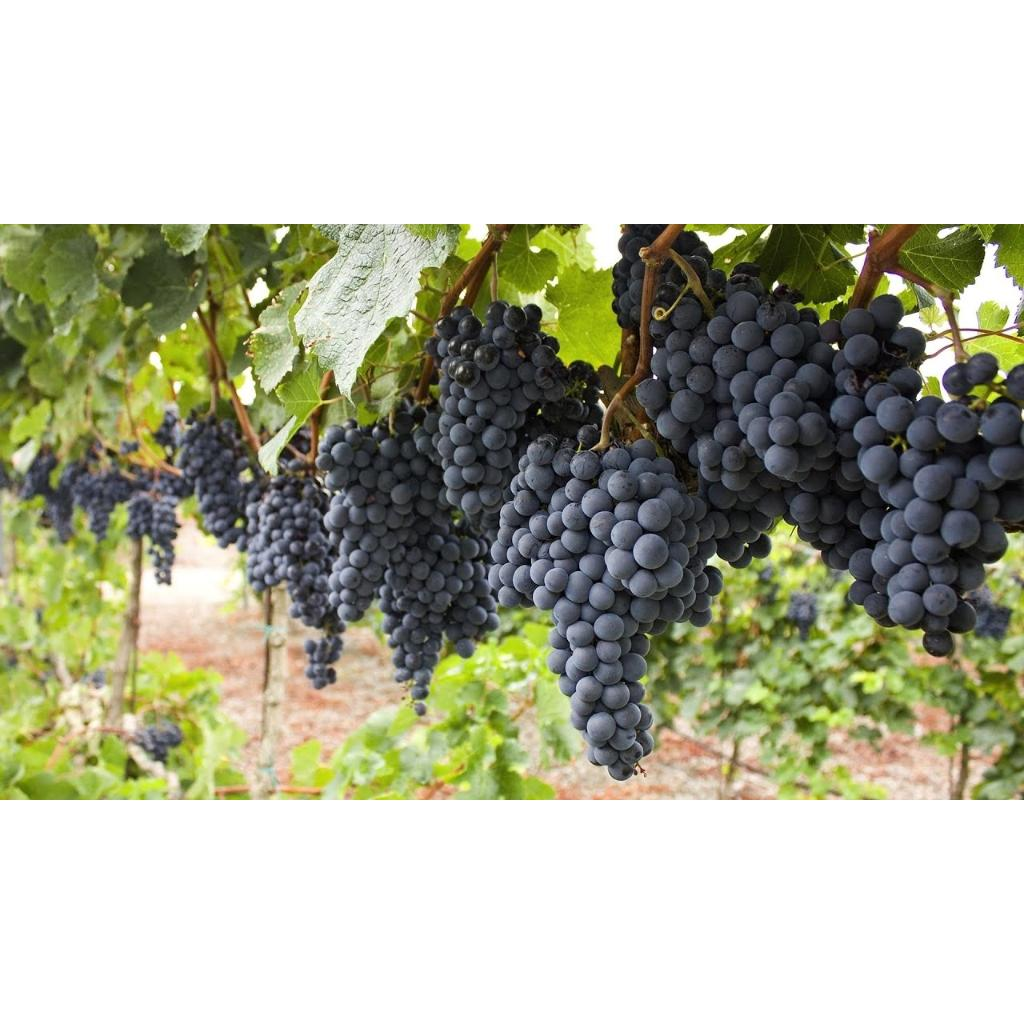grape: (634, 232, 1024, 655), (489, 426, 721, 778), (316, 400, 498, 713), (416, 300, 602, 540), (496, 448, 664, 636), (178, 416, 248, 548), (148, 498, 180, 584)
